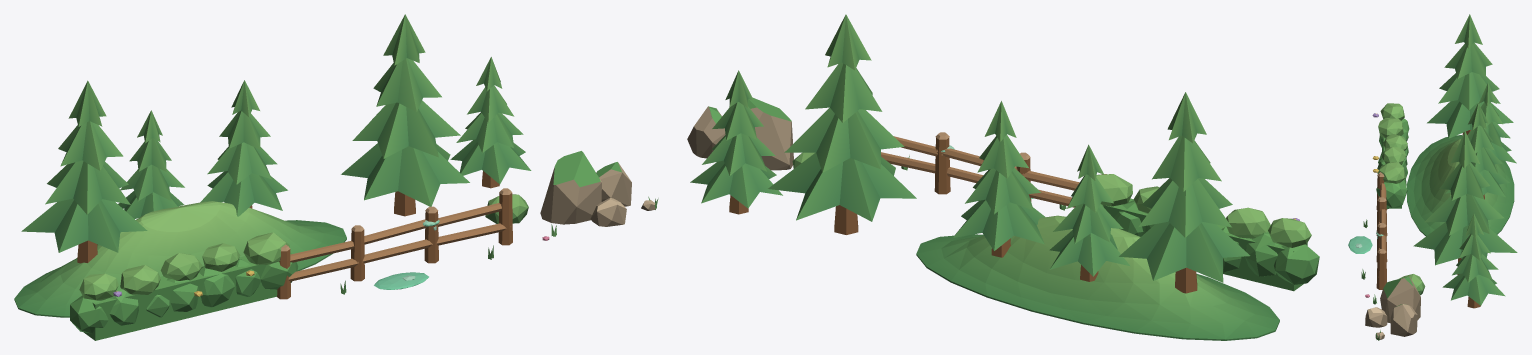
The model's file is ranch_border_chunk_a.fbx.
3 views of the same model, side by side, from view 1: azimuth 30°, elevation 25°; view 2: azimuth 150°, elevation 25°; view 3: azimuth 270°, elevation 25° (orthographic). The views are drawn at different scales.
Visible parts, largest first — view 1: ranch_border_chunk_a; view 2: ranch_border_chunk_a; view 3: ranch_border_chunk_a.
Part boxes in pixels (x1,y1,x2,y2): ranch_border_chunk_a: [14, 14, 658, 340]; ranch_border_chunk_a: [687, 14, 1319, 340]; ranch_border_chunk_a: [1348, 14, 1517, 340].
Size of the model in its own units: 53.77 by 18.16 by 18.78.
